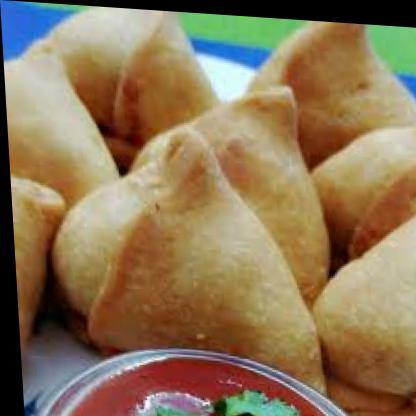samosa: (43, 120, 322, 393), (124, 74, 329, 310), (10, 1, 223, 177), (239, 13, 416, 174), (304, 196, 416, 416), (2, 35, 118, 211), (306, 108, 416, 274), (8, 176, 69, 365)
